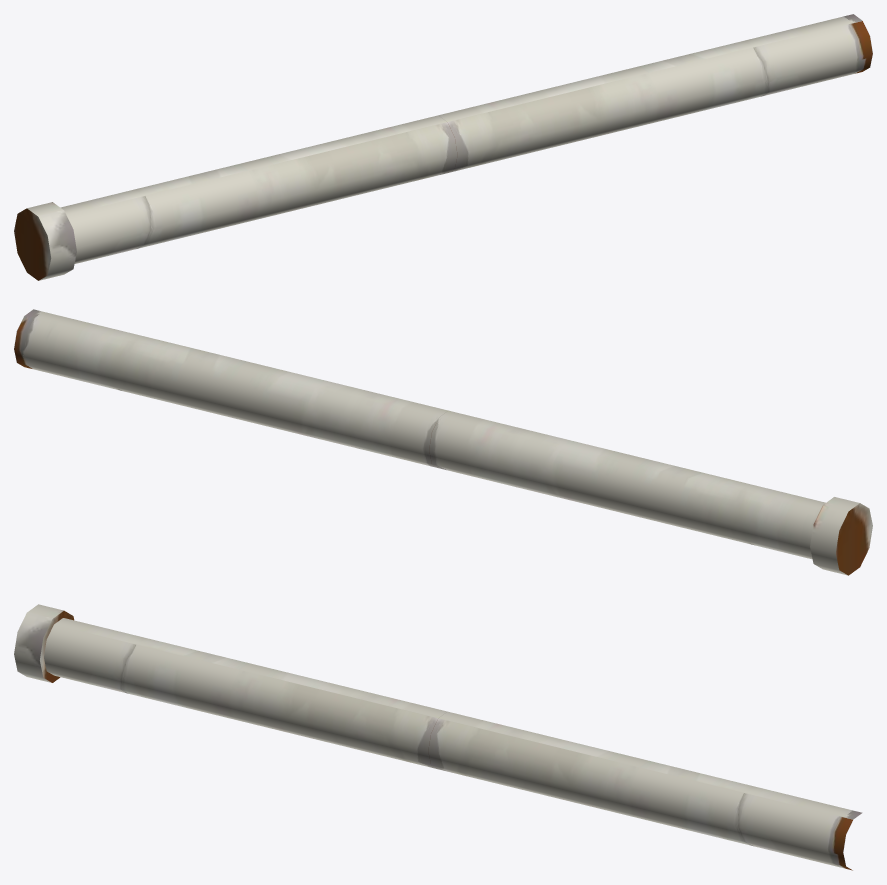
The picture shows the model from 3 angles, top to bottom: view 1: azimuth 30°, elevation 25°; view 2: azimuth 150°, elevation 25°; view 3: azimuth 330°, elevation 25°; orthographic projection.
Visible parts, largest first — view 1: body0_model0_lod0_mesh0; view 2: body0_model0_lod0_mesh0; view 3: body0_model0_lod0_mesh0.
Boxes of the visible parts, box(x1,y1,x2,y2) form: body0_model0_lod0_mesh0: box(14, 14, 872, 280); body0_model0_lod0_mesh0: box(14, 309, 872, 575); body0_model0_lod0_mesh0: box(14, 604, 862, 870).
Bounding box in the file's own units: 128 × 9.52 × 10.
1 material, 1 textured.
